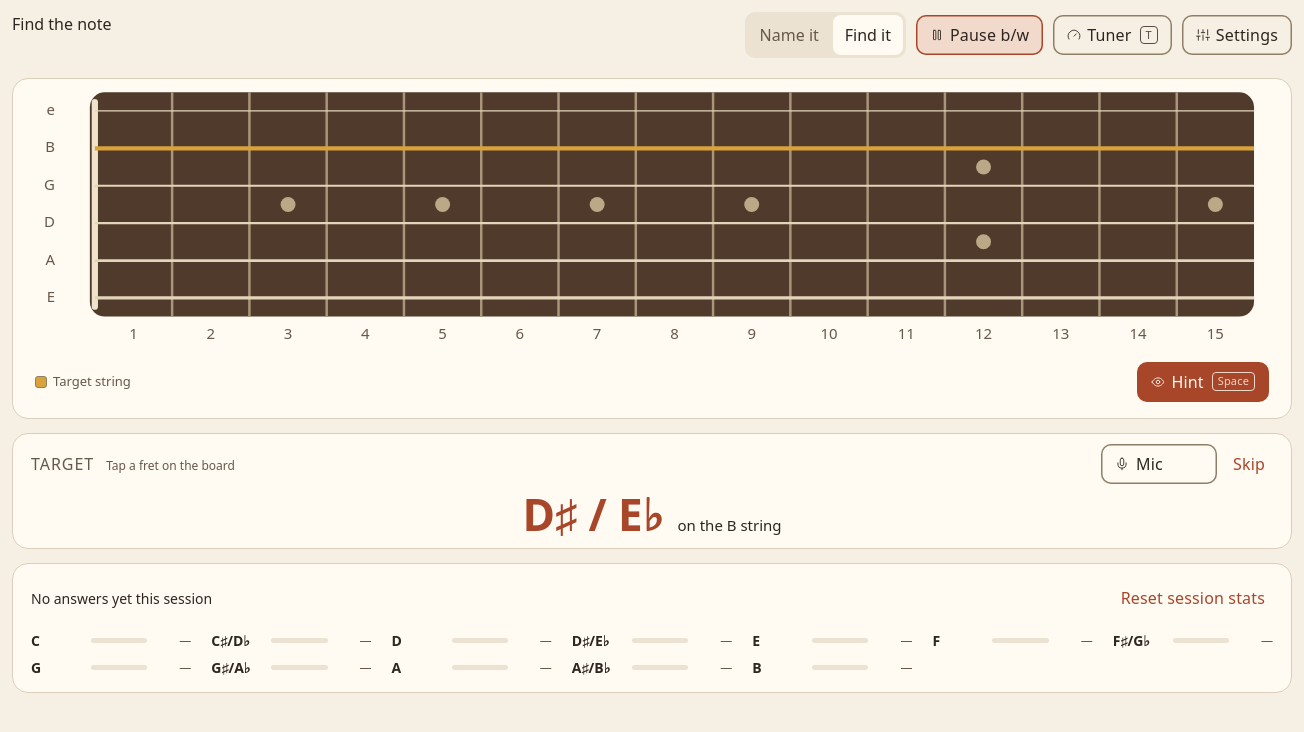
it: NoteTrainer mic › says why when the browser refuses, and stays off
Click the button with aria-label "microphone" at (1159, 464), box [1101,444,1217,484]
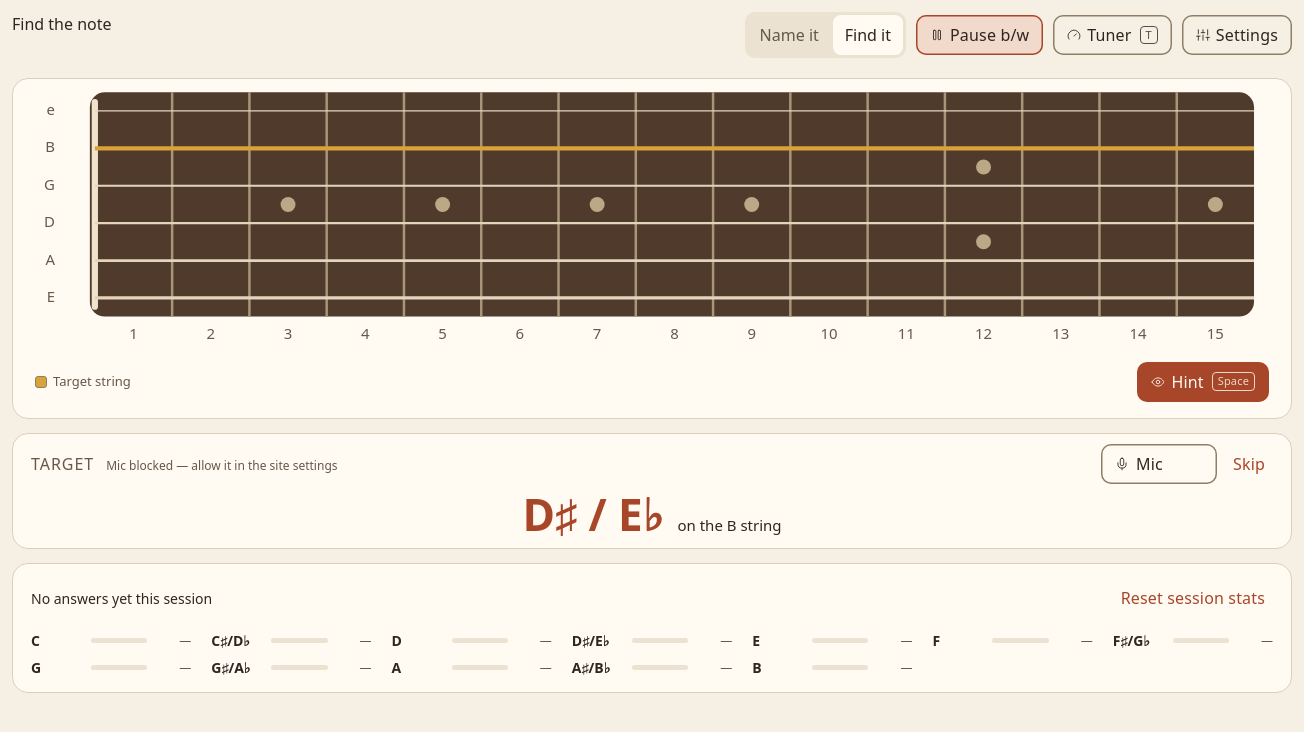
expect the text "Mic blocked — allow it in the site settings" is shown: met, box [106,456,338,474]
